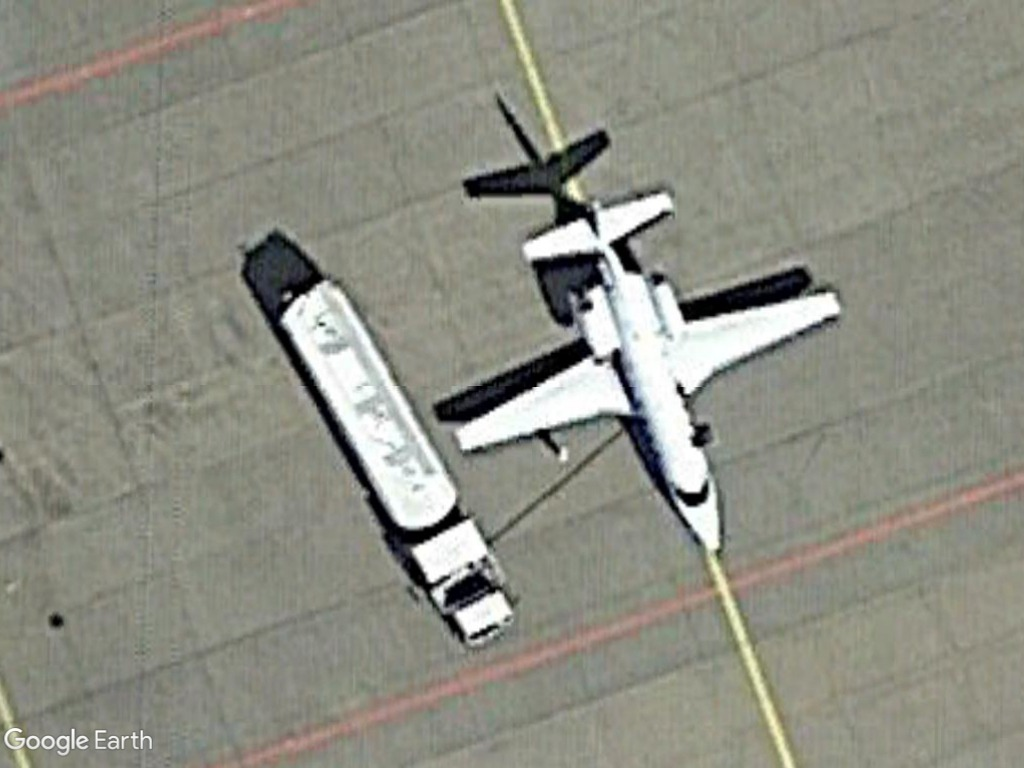chartered: (439, 181, 853, 563)
longvehicle: (246, 270, 529, 656)
